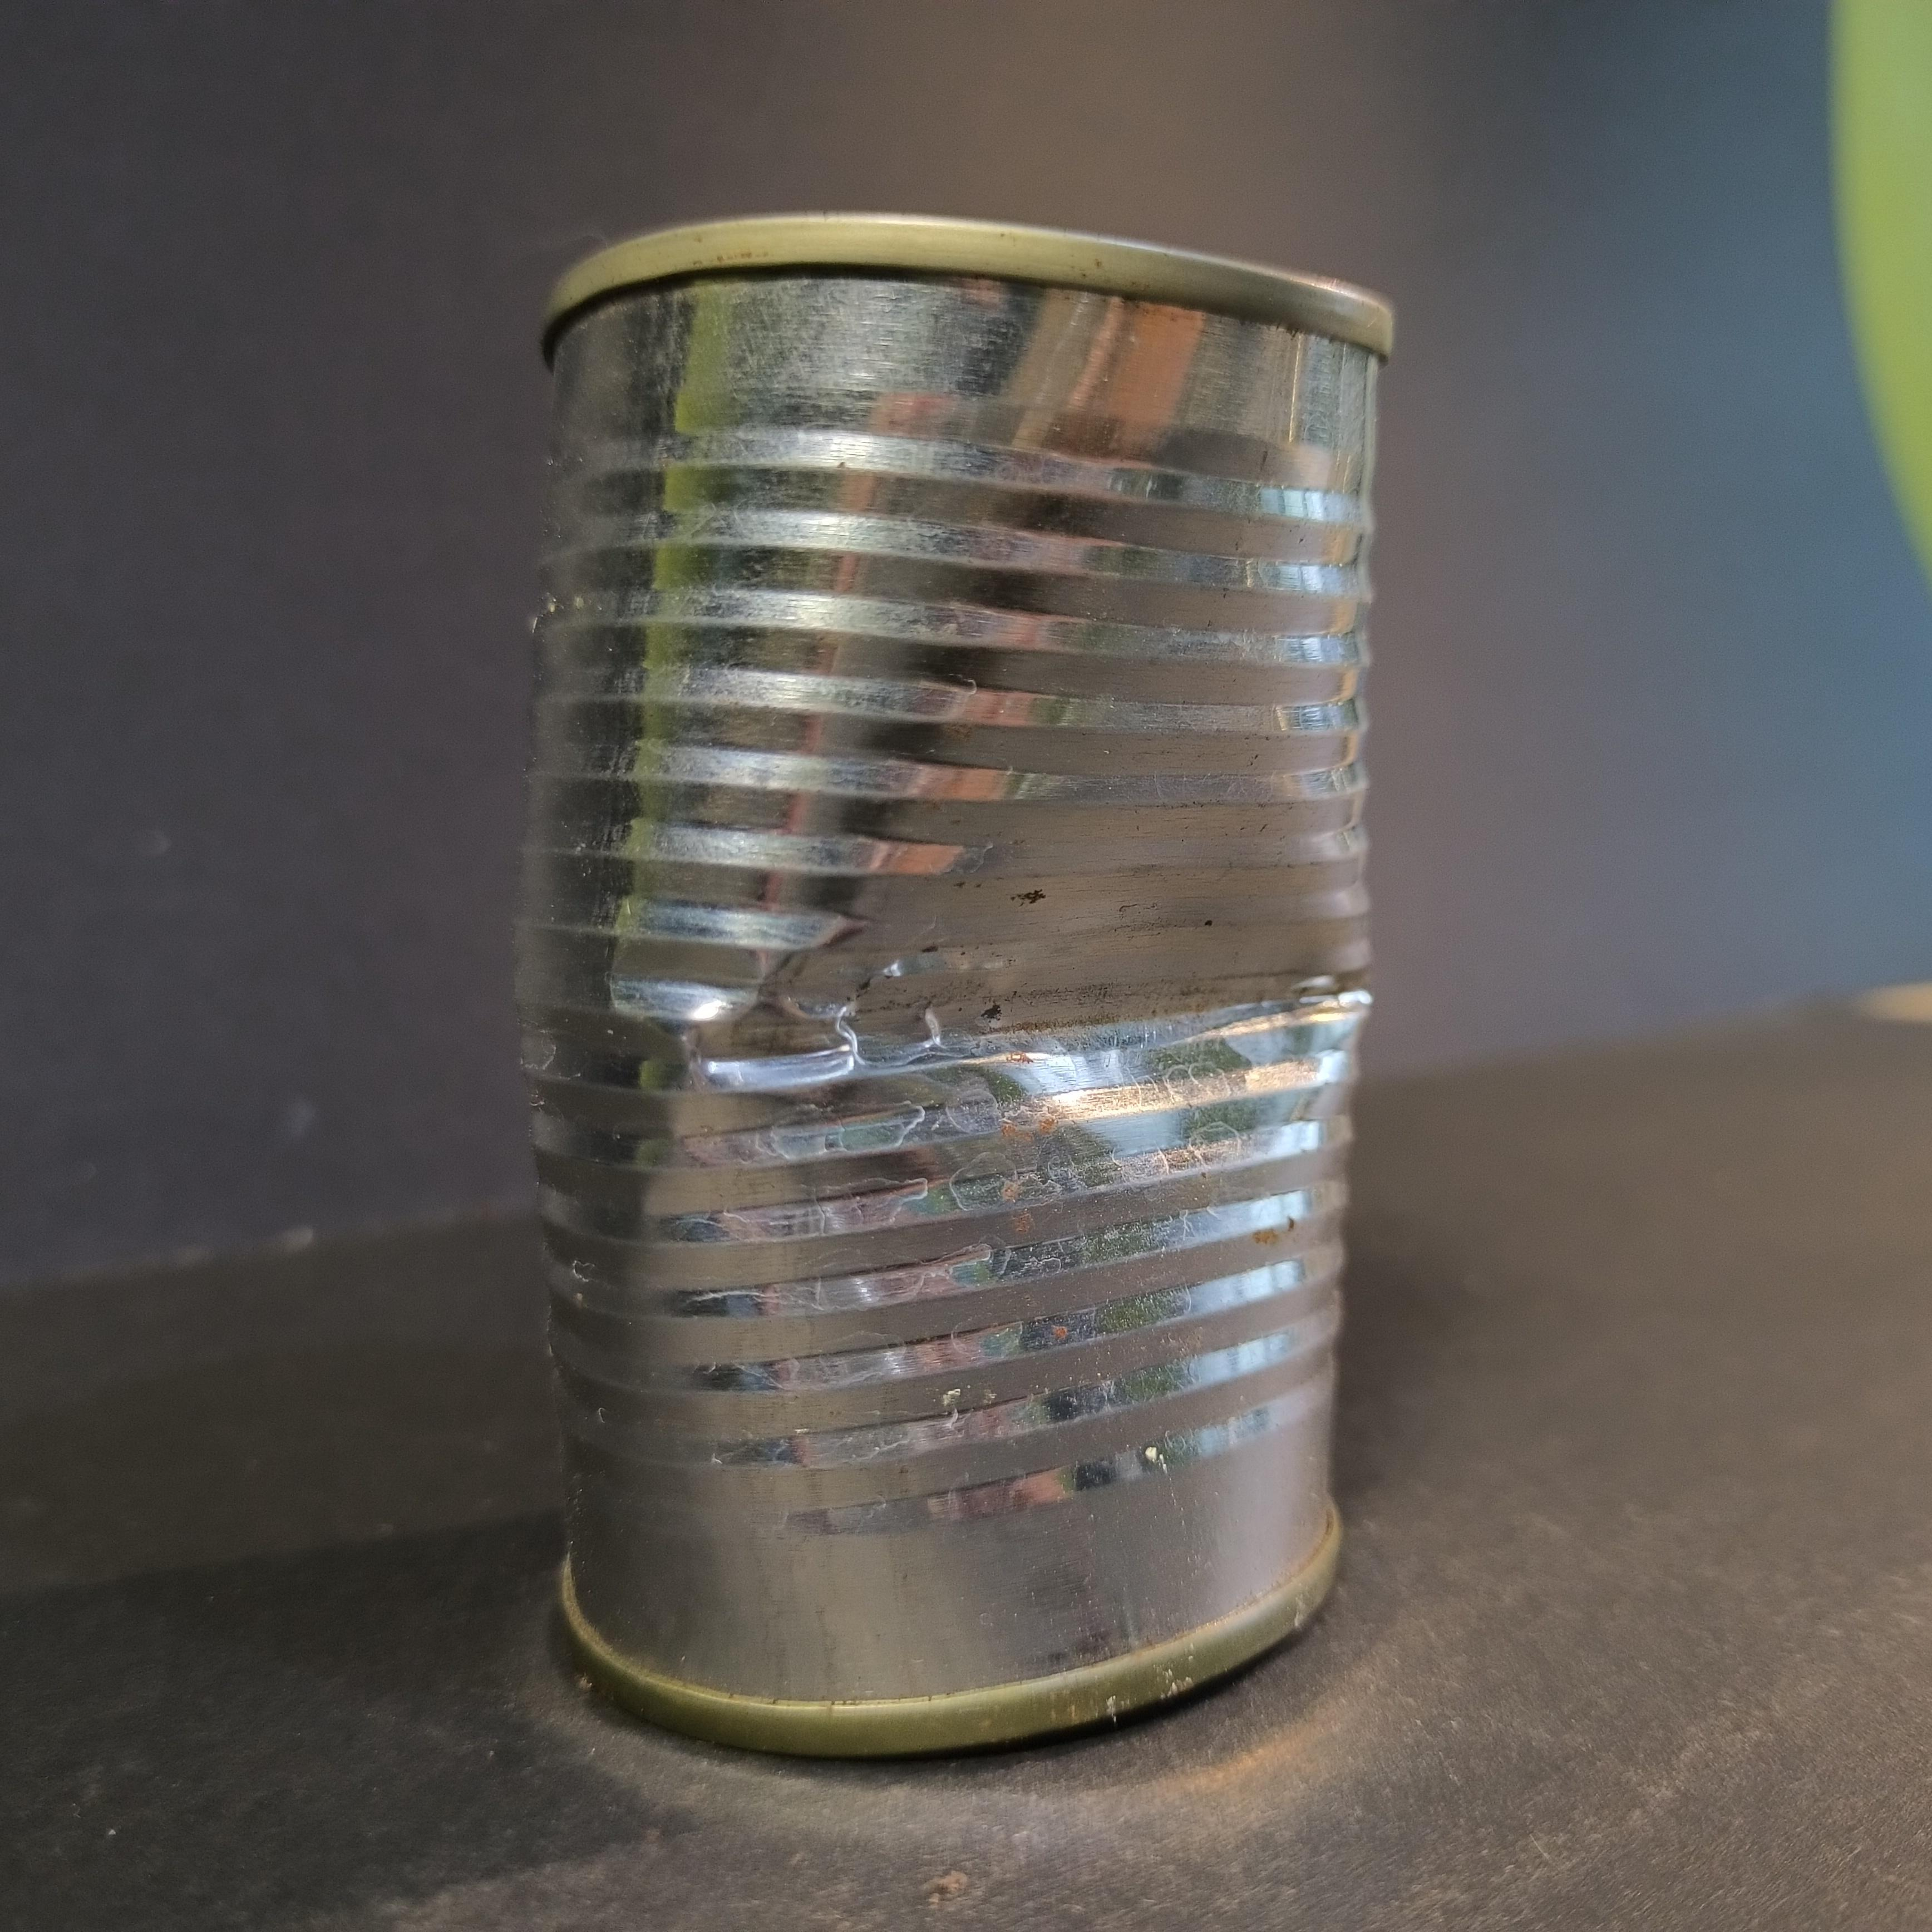Dented: (451, 152, 1410, 1789)
